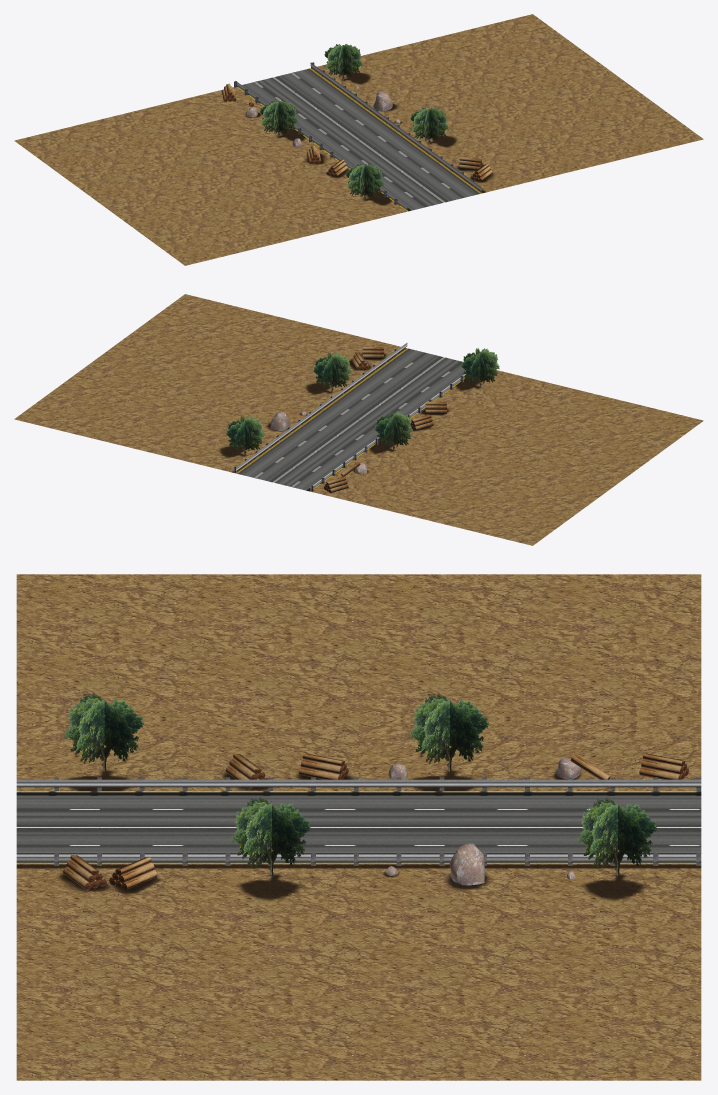
The picture shows the model from 3 angles, top to bottom: view 1: azimuth 30°, elevation 25°; view 2: azimuth 150°, elevation 25°; view 3: azimuth 270°, elevation 25°; orthographic projection. The views are drawn at different scales.
Visible parts, largest first — view 1: land, road004, tree4, relling004, woodenblock, rock; view 2: land, road004, tree4, relling004, woodenblock, rock; view 3: land, road004, tree4, relling004, woodenblock, rock.
Boxes of the visible parts, x1,y1,x2,y2 form: land: (14, 14, 703, 265); road004: (237, 68, 481, 211); tree4: (260, 44, 448, 200); relling004: (234, 62, 481, 209); woodenblock: (221, 83, 492, 181); rock: (246, 86, 400, 147); land: (14, 294, 703, 545); road004: (236, 348, 465, 491); tree4: (226, 348, 499, 455); relling004: (234, 343, 465, 491); woodenblock: (324, 346, 446, 493); rock: (270, 411, 367, 473); land: (16, 574, 701, 1080); road004: (16, 791, 701, 863); tree4: (64, 693, 656, 875); relling004: (16, 777, 701, 865); woodenblock: (63, 753, 688, 890); rock: (385, 757, 581, 885).
Bounding box in the file's own units: 140 × 10.62 × 80.
